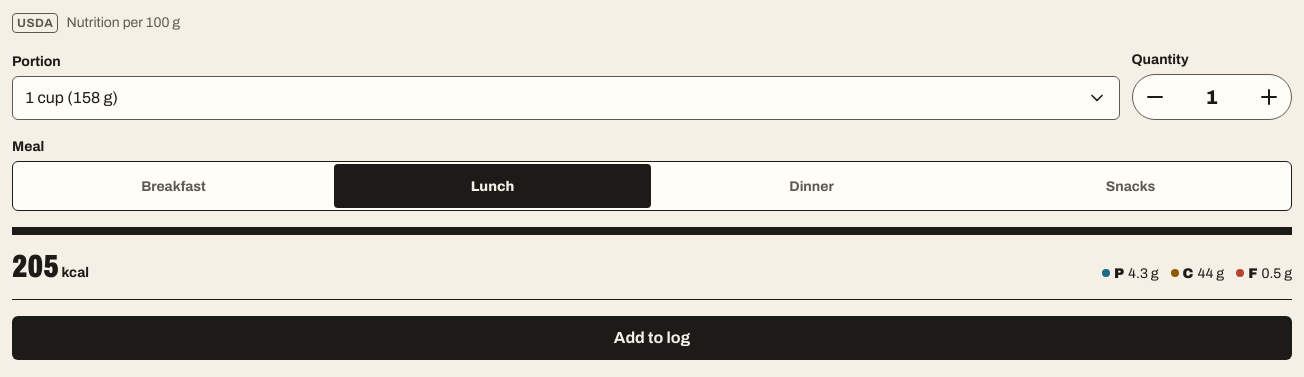
Test: FoodDetailContainer › switches to grams at 100 g and steps by 10
Select "grams" in the dropdown labelled "Portion" at (566, 98), box [13,77,1118,119]
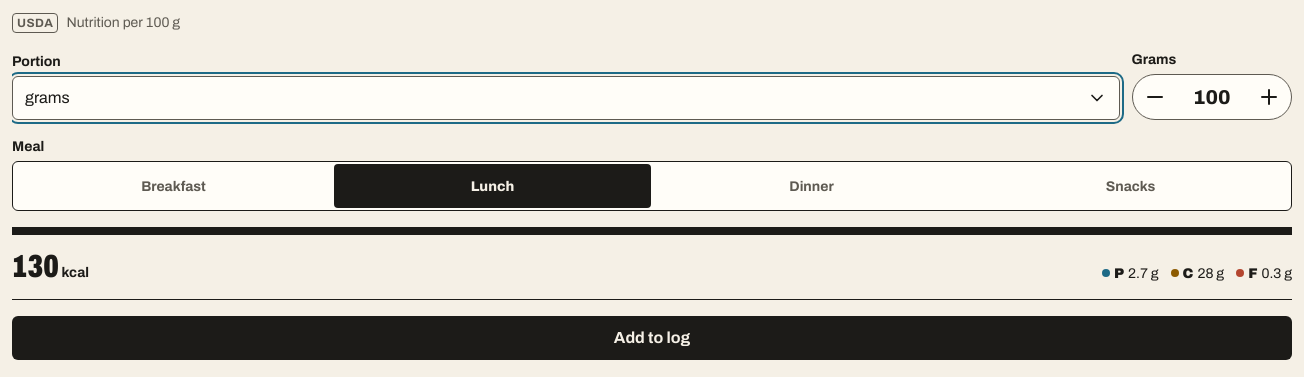
Check: the field named "Grams" holds "100", box [1180,75,1243,119]
Click the button named "Increase grams" at (1269, 97), box [1247,75,1291,119]
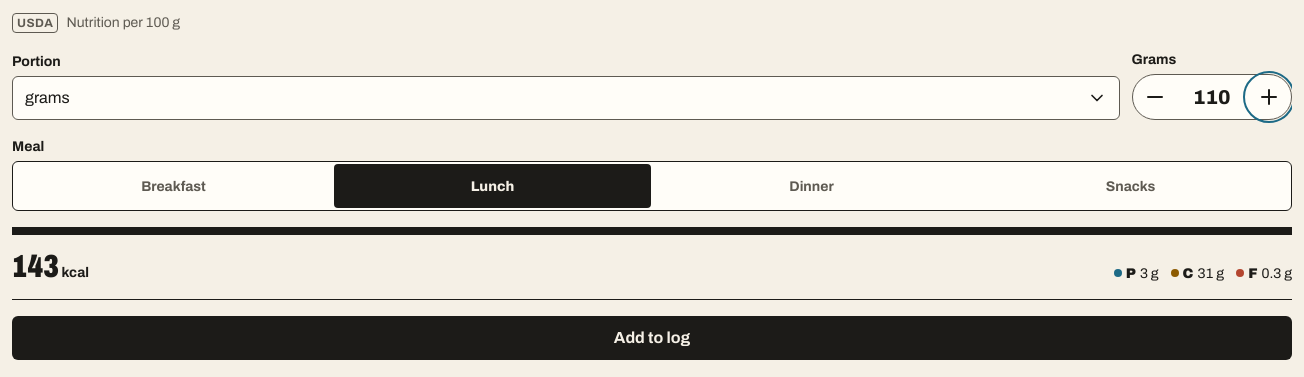
Check: the field named "Grams" holds "110", box [1180,75,1243,119]
Check: the element named "This amount" shows "143 kcal", box [12,227,1292,300]
